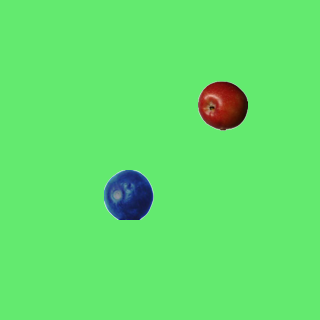Apple Braeburn: (197, 80, 247, 130)
Huckleberry: (103, 169, 153, 219)
